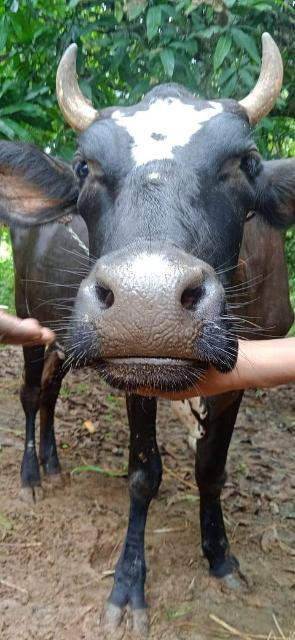Muzzle: (96, 262, 194, 358)
